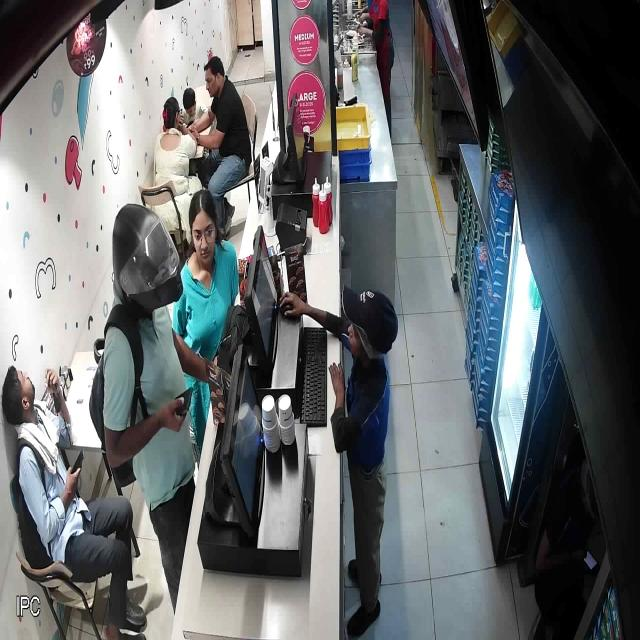helmet: (110, 204, 182, 319)
